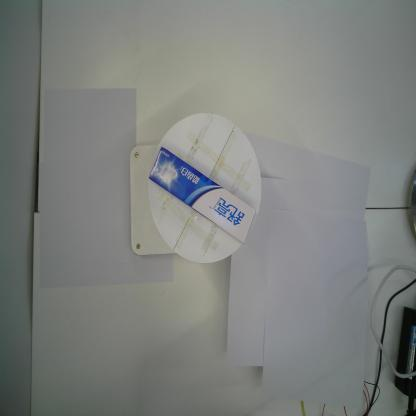Personal Hygiene: (148, 145, 256, 244)
